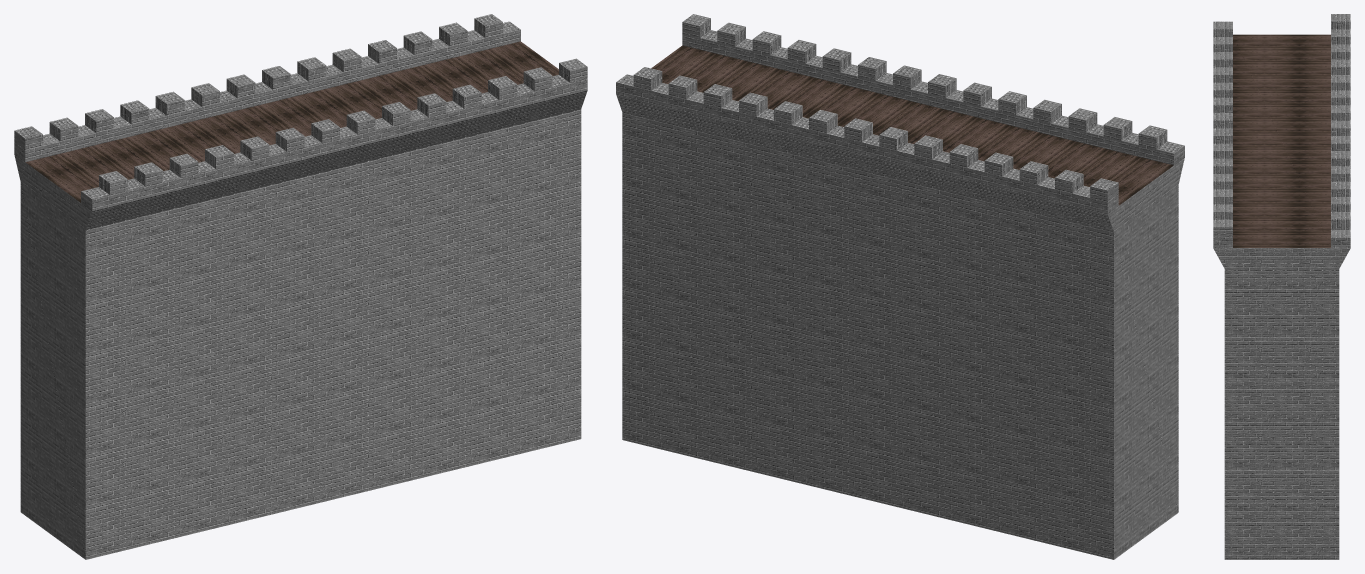
File: wall.fbx
3 renders of one model, left to right at view 1: azimuth 30°, elevation 25°; view 2: azimuth 150°, elevation 25°; view 3: azimuth 270°, elevation 25°, orthographic. The views are drawn at different scales.
Parts seen in each view (by area): view 1: wall; view 2: wall; view 3: wall.
Boxes of the visible parts, left/top/right/bottom form: wall: left=14, top=14, right=587, bottom=559; wall: left=616, top=14, right=1184, bottom=559; wall: left=1213, top=14, right=1350, bottom=559.
Bounding box in the file's own units: 2200 × 1600 × 600.
